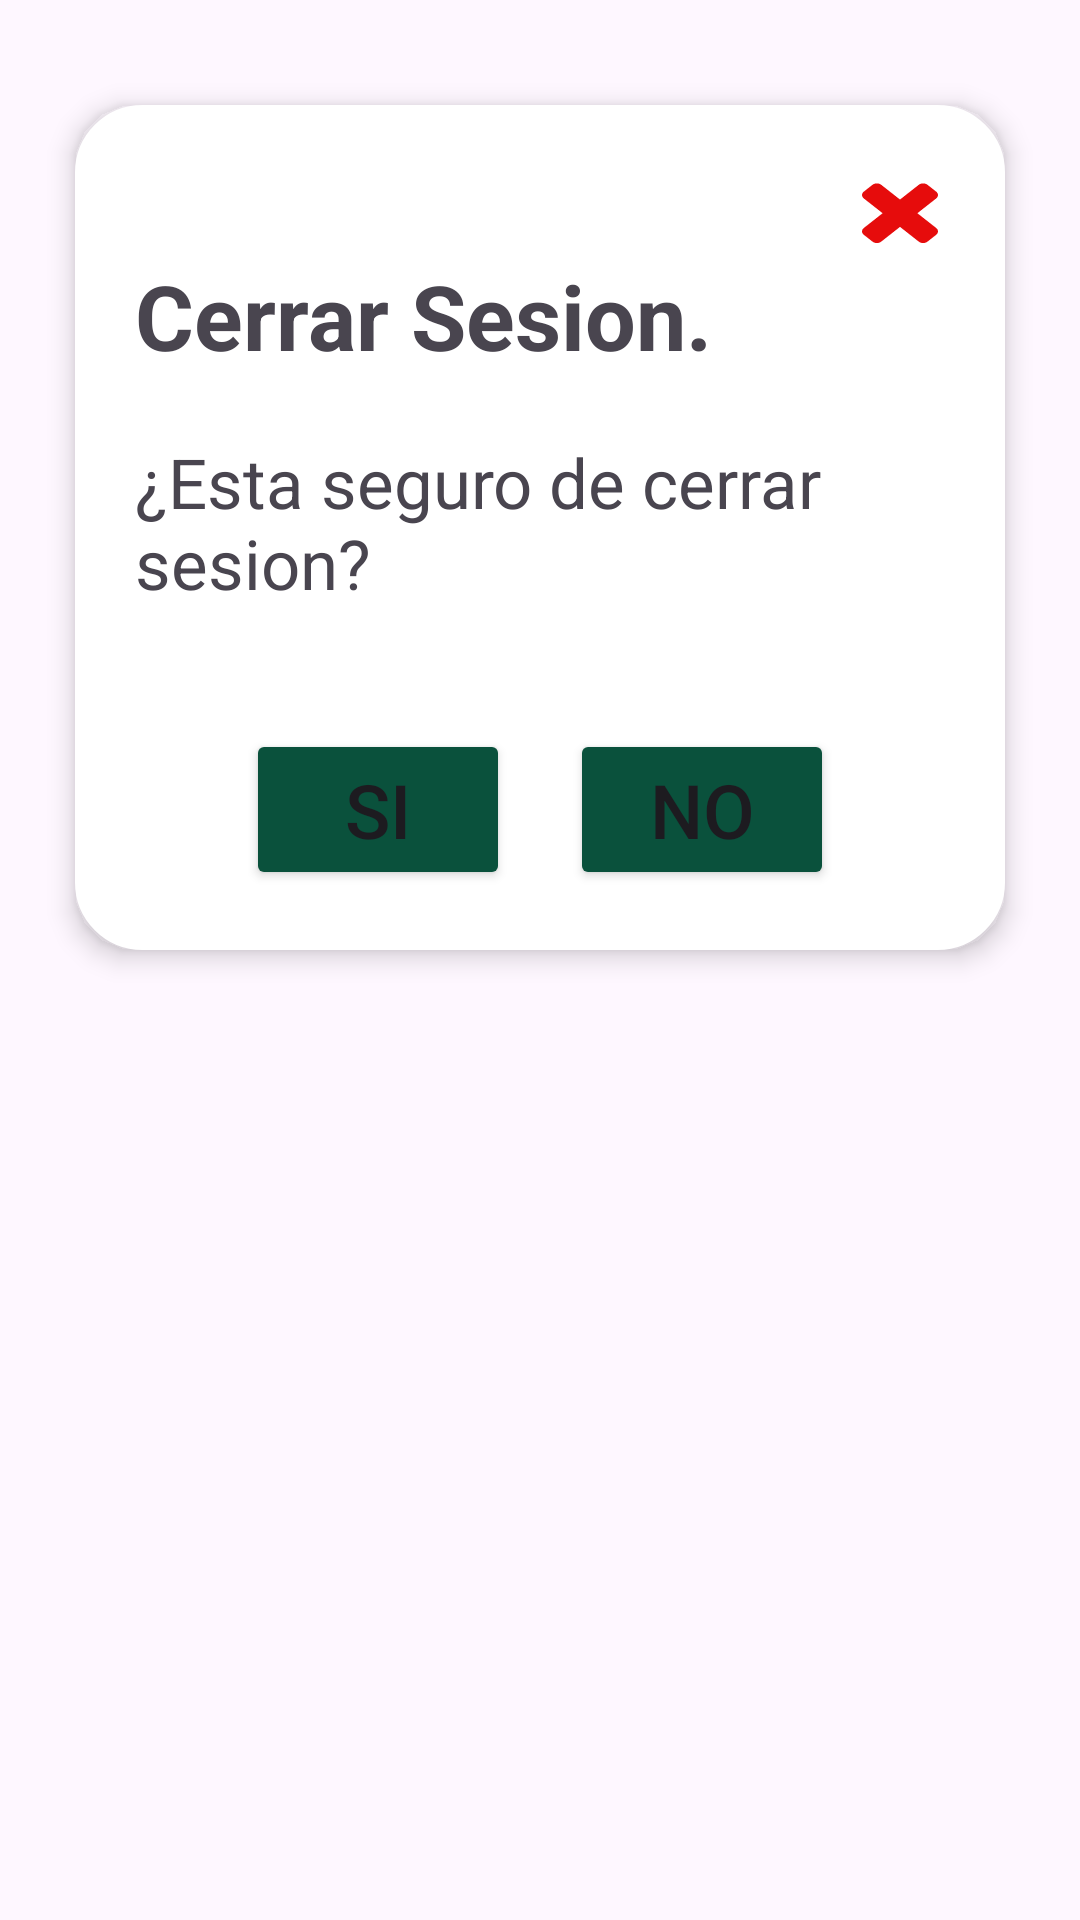

Locate icon controls on the screen. Image size 1080w x 1920h, boxes as {"x1": x1, "y1": y1, "x2": x2, "y2": y2}.
close: {"x1": 862, "y1": 183, "x2": 938, "y2": 243}
